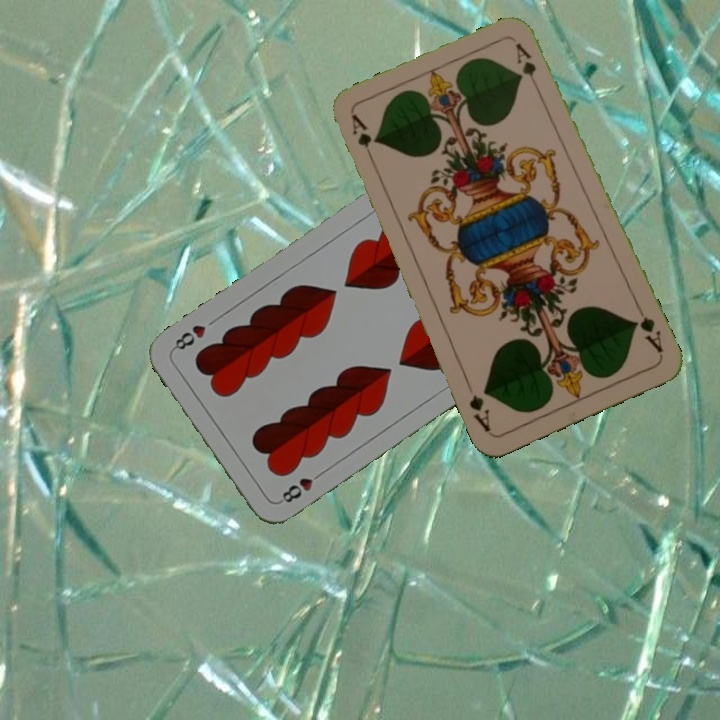GA: (630, 301, 666, 356), (347, 110, 378, 168)
H8: (276, 467, 327, 506)
